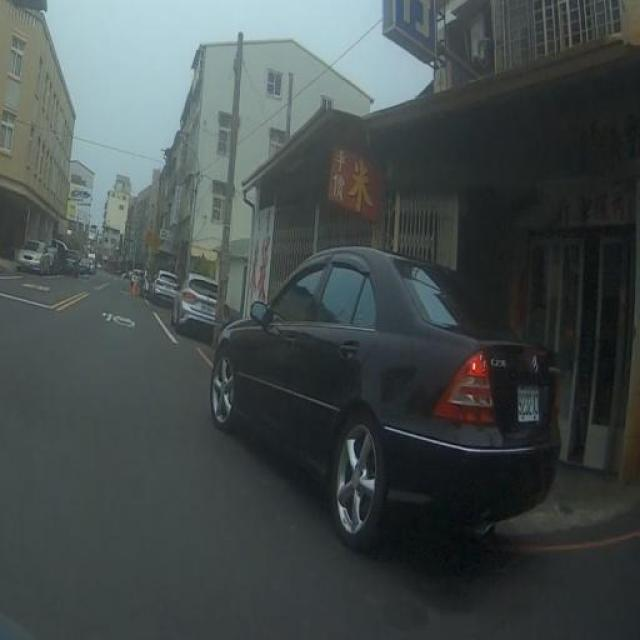Legalparking: (131, 270, 216, 325), (19, 241, 95, 275)
illegalparking: (209, 246, 559, 551)
